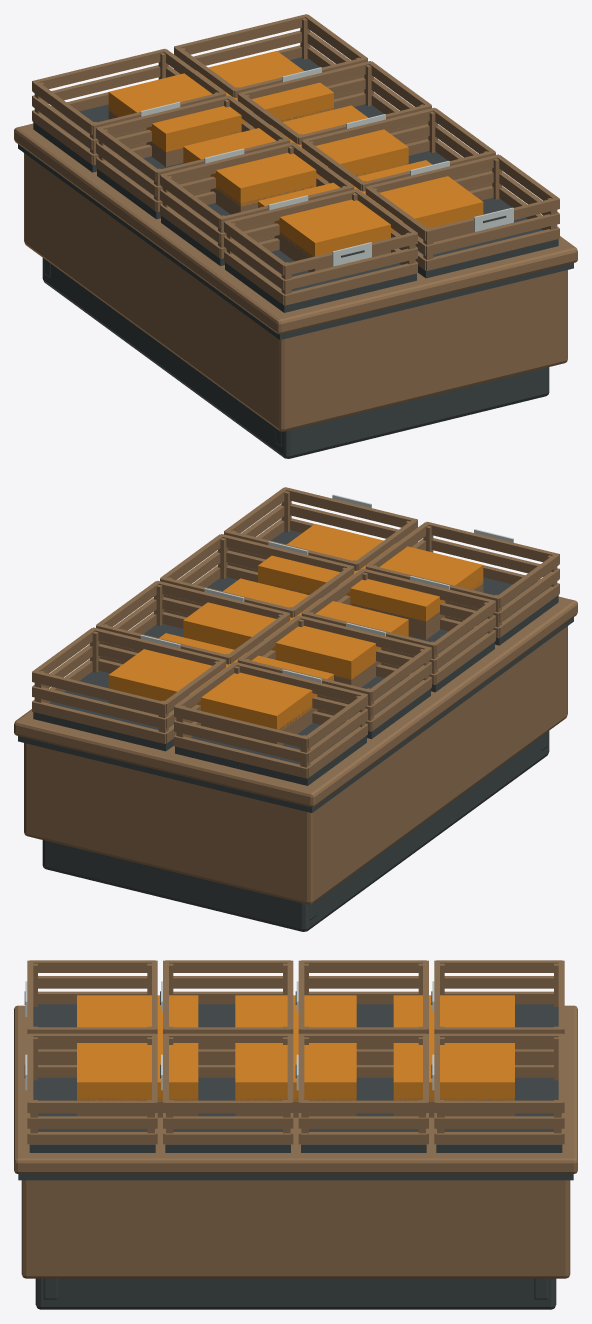
The model's file is produce-l0.glb.
3 renders of one model, top to bottom at view 1: azimuth 30°, elevation 25°; view 2: azimuth 150°, elevation 25°; view 3: azimuth 270°, elevation 25°, orthographic. The views are drawn at different scales.
Visible parts, largest first — view 1: produce-l0_fixture_Oiled warm oak, produce-l0_fixture_Citrus ochre.001, produce-l0_fixture_Powder-coated graphite, produce-l0_fixture_Refrigerator enamel, produce-l0_fixture_Oiled warm oak.001; view 2: produce-l0_fixture_Oiled warm oak, produce-l0_fixture_Citrus ochre.001, produce-l0_fixture_Powder-coated graphite, produce-l0_fixture_Oiled warm oak.001, produce-l0_fixture_Refrigerator enamel; view 3: produce-l0_fixture_Oiled warm oak, produce-l0_fixture_Powder-coated graphite, produce-l0_fixture_Citrus ochre.001, produce-l0_fixture_Oiled warm oak.001, produce-l0_fixture_Refrigerator enamel.
Boxes of the visible parts, left/top/right/bottom form: produce-l0_fixture_Oiled warm oak: left=14, top=14, right=577, bottom=431; produce-l0_fixture_Citrus ochre.001: left=108, top=51, right=483, bottom=256; produce-l0_fixture_Powder-coated graphite: left=18, top=57, right=573, bottom=458; produce-l0_fixture_Refrigerator enamel: left=140, top=67, right=513, bottom=266; produce-l0_fixture_Oiled warm oak.001: left=108, top=108, right=476, bottom=272; produce-l0_fixture_Oiled warm oak: left=14, top=487, right=577, bottom=904; produce-l0_fixture_Citrus ochre.001: left=108, top=524, right=483, bottom=730; produce-l0_fixture_Powder-coated graphite: left=18, top=530, right=573, bottom=931; produce-l0_fixture_Oiled warm oak.001: left=108, top=580, right=483, bottom=745; produce-l0_fixture_Refrigerator enamel: left=140, top=494, right=513, bottom=682; produce-l0_fixture_Oiled warm oak: left=14, top=960, right=577, bottom=1278; produce-l0_fixture_Powder-coated graphite: left=18, top=991, right=573, bottom=1309; produce-l0_fixture_Citrus ochre.001: left=77, top=995, right=514, bottom=1101; produce-l0_fixture_Oiled warm oak.001: left=77, top=1098, right=514, bottom=1117; produce-l0_fixture_Refrigerator enamel: left=25, top=981, right=434, bottom=1090.
Size of the model in its own units: 1.7 by 1.09 by 2.6.
